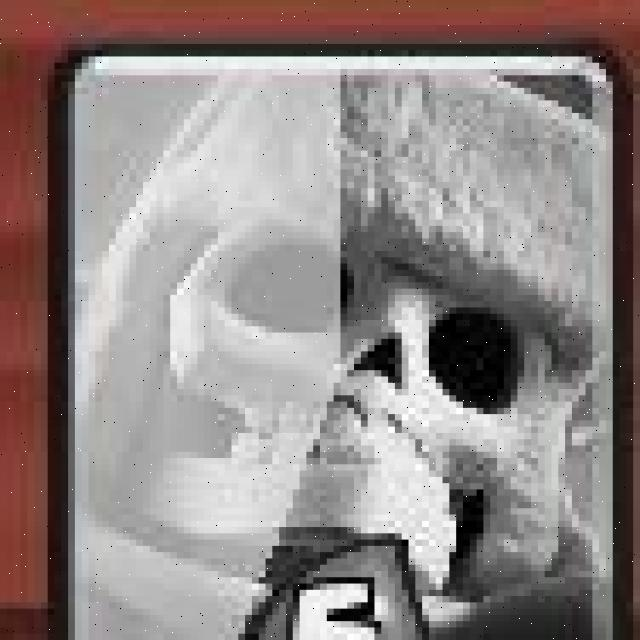Giant_Skeleton: (36, 41, 635, 640)
